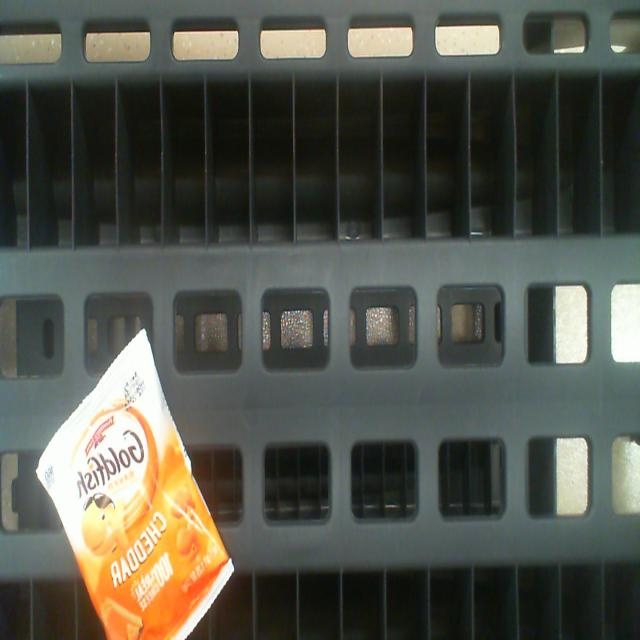snack: (35, 330, 234, 640)
